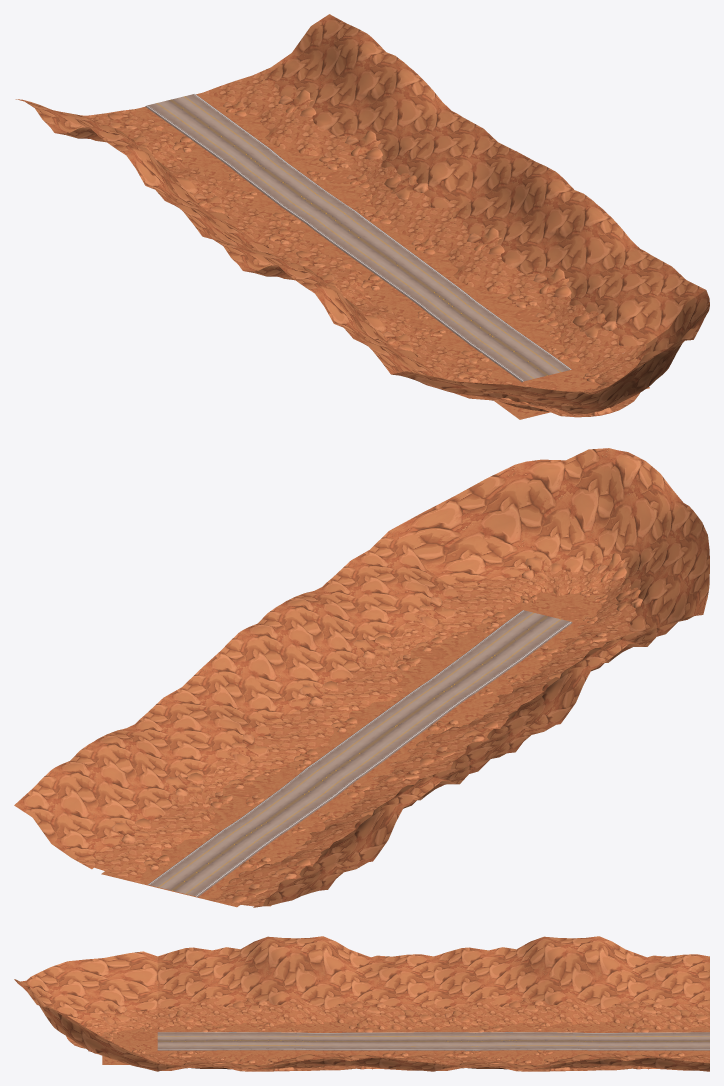
File: Desert_End.FBX
The picture shows the model from 3 angles, top to bottom: view 1: azimuth 30°, elevation 25°; view 2: azimuth 150°, elevation 25°; view 3: azimuth 270°, elevation 25°; orthographic projection. The views are drawn at different scales.
Parts seen in each view (by area): view 1: Desert_End_R, Desert_End_L, Desert_End_Road, Desert_End; view 2: Desert_End_R, Desert_End, Desert_End_L, Desert_End_Road; view 3: Desert_End_L, Desert_End, Desert_End_R, Desert_End_Road.
Boxes of the visible parts, box(x1,y1,x2,y2) form: Desert_End_R: box(196, 14, 705, 376); Desert_End_L: box(15, 99, 546, 384); Desert_End_Road: box(145, 94, 571, 382); Desert_End: box(391, 290, 709, 419); Desert_End_R: box(14, 531, 521, 891); Desert_End: box(389, 448, 709, 631); Desert_End_L: box(172, 615, 695, 907); Desert_End_Road: box(148, 610, 572, 897); Desert_End_L: box(157, 936, 709, 1032); Desert_End: box(14, 951, 157, 1071); Desert_End_R: box(157, 1050, 709, 1071); Desert_End_Road: box(157, 1032, 709, 1050).
Size of the model in its own units: 49.07 by 13.78 by 126.
Materials: 2 (2 with a texture image).
